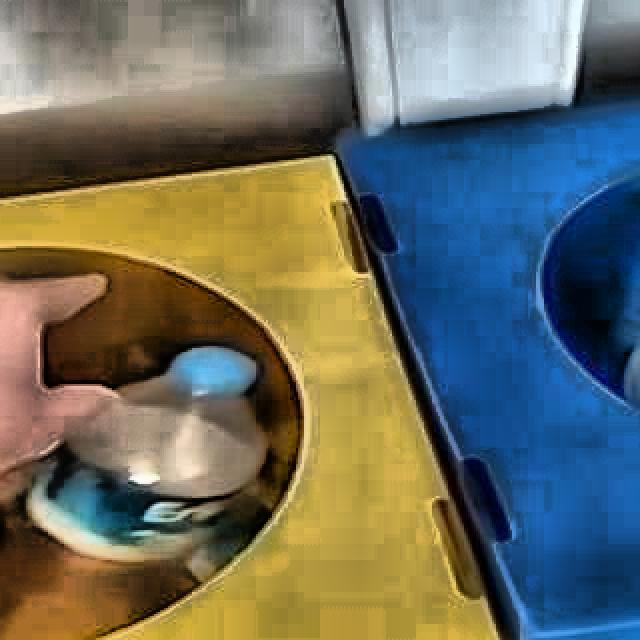plastic: (3, 347, 269, 640)
